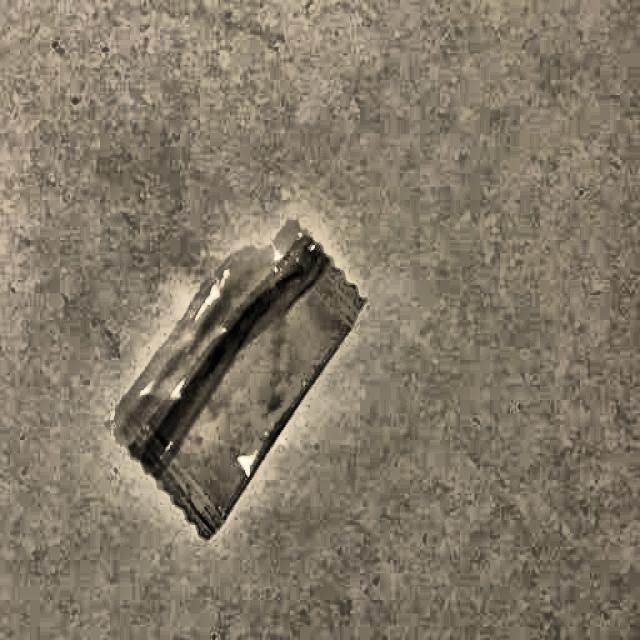trash: (119, 234, 355, 524)
